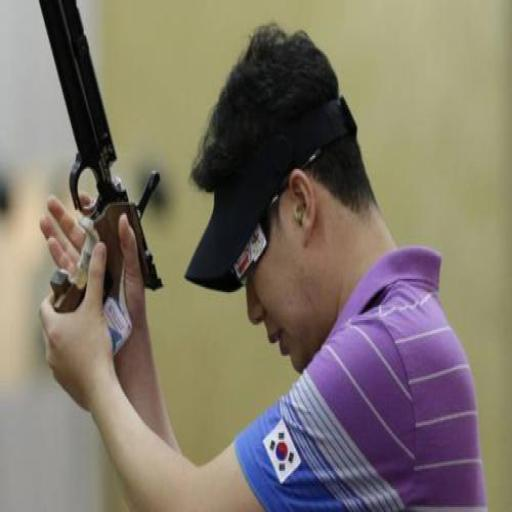shooting: (37, 22, 490, 510)
